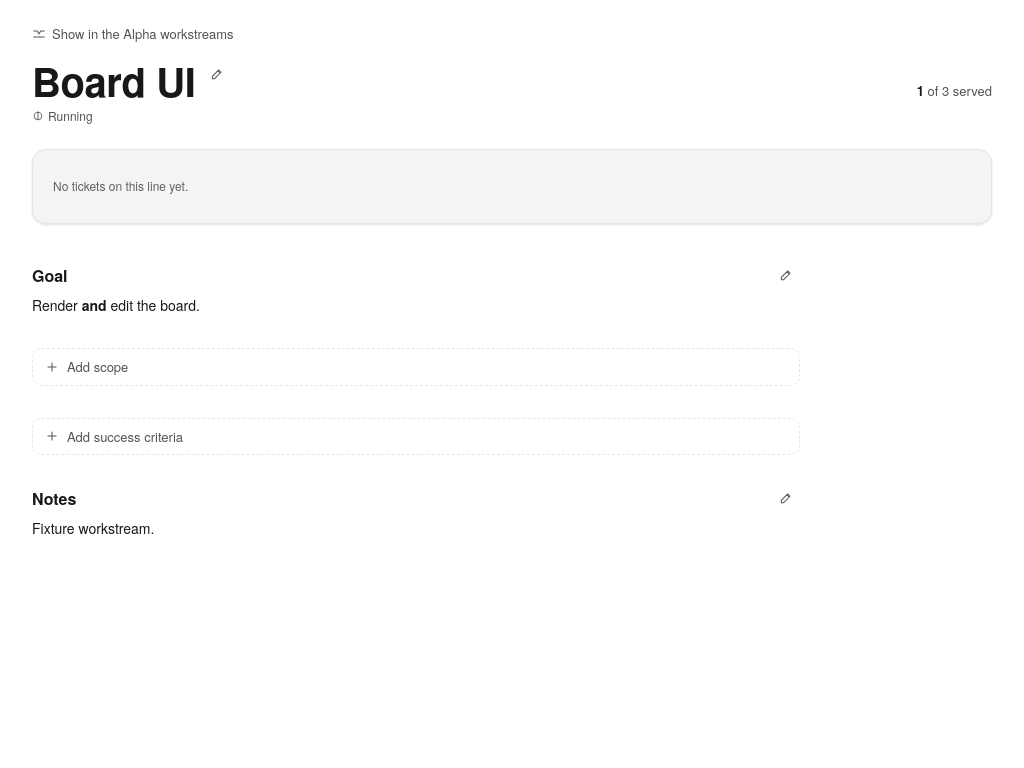
Scenario: WorkstreamPage › keeps the name open when another workstream has the name (FH-163)
Click the button named "Edit name": (218, 74) top-left (204, 60), bottom-right (232, 88)
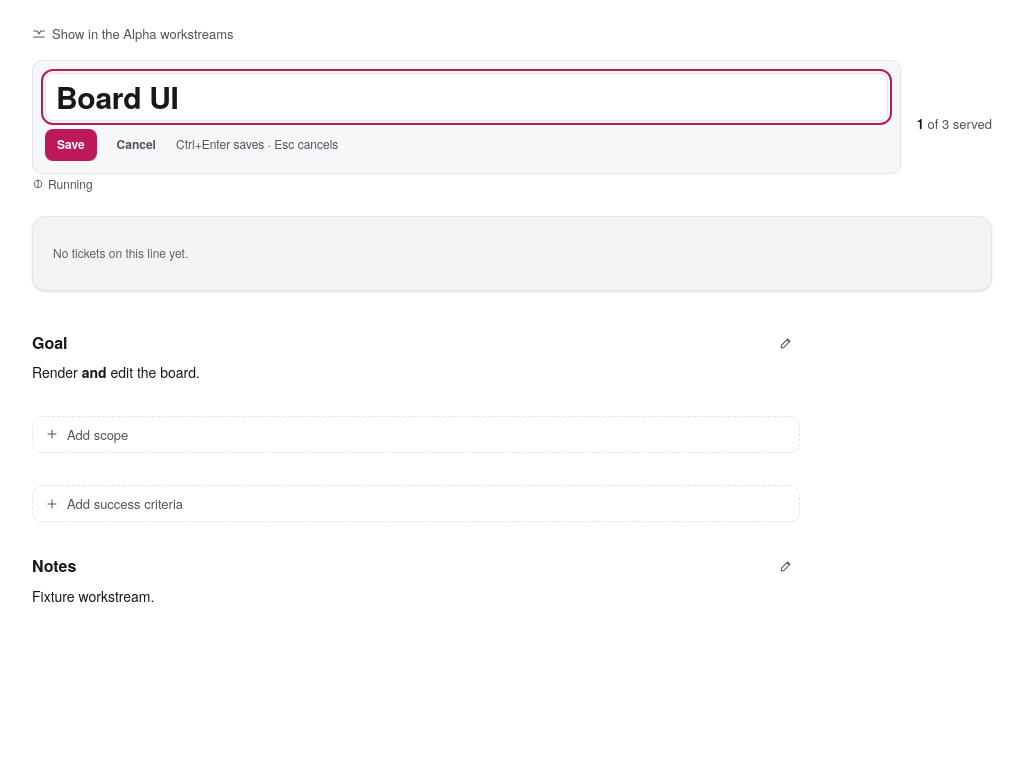
Replace the text in the field named "Name" with "Offline": (466, 97) top-left (45, 73), bottom-right (888, 120)
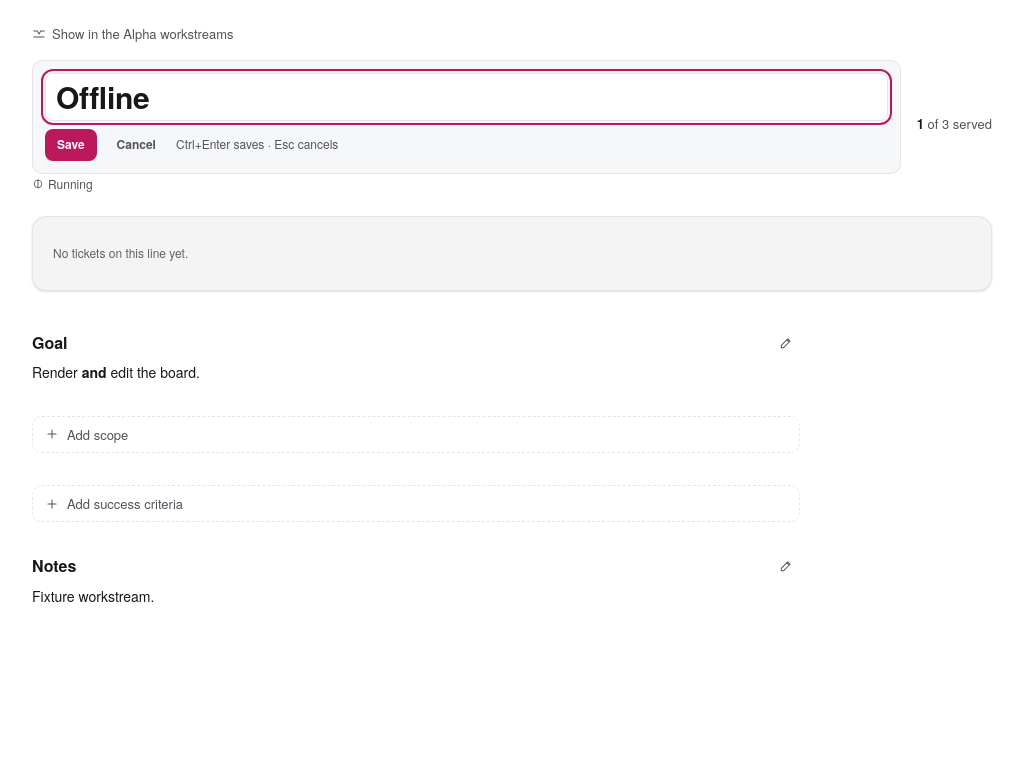
Click the button "Save": (71, 144) top-left (45, 128), bottom-right (97, 160)
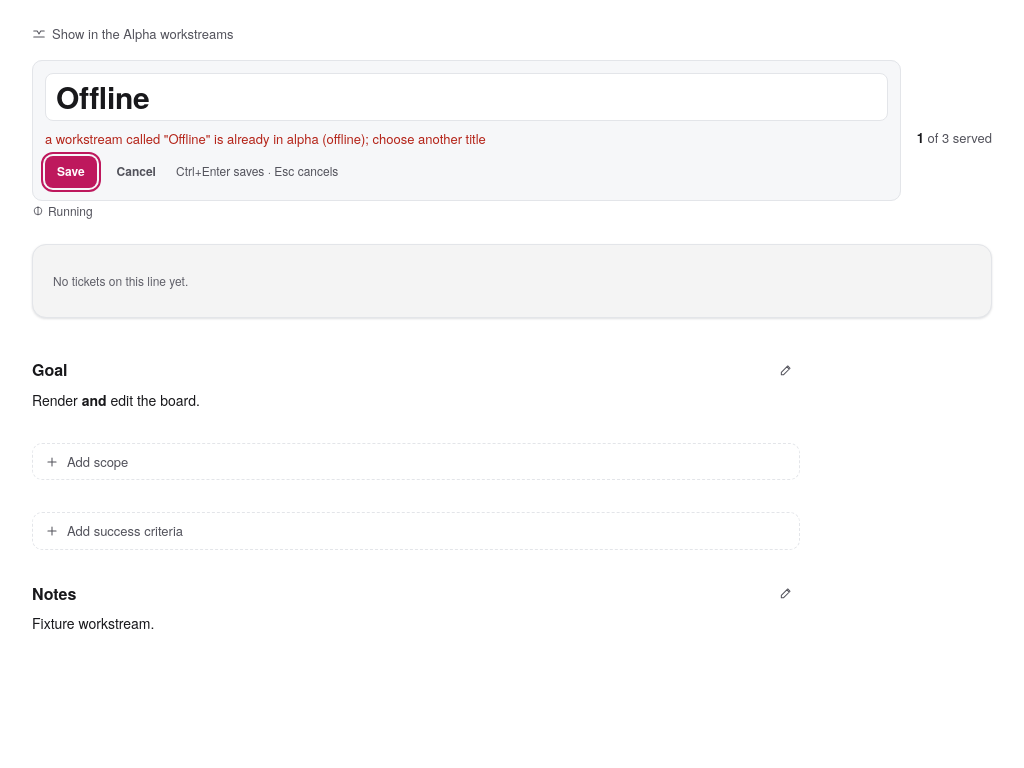
Expected: the message shows "a workstream called \"Offline\" is already in alpha (offline); choose another title", top-left (45, 128), bottom-right (486, 148)
